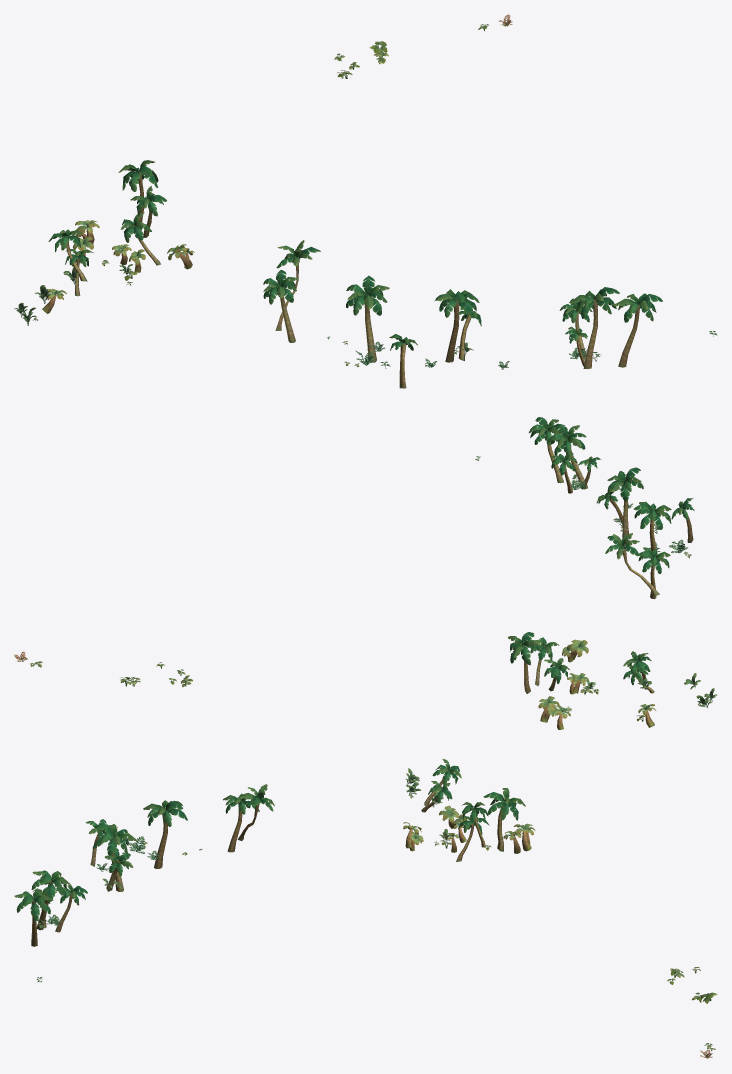
The model's file is pref_sm_4v4beachtech_WSJ_bk_topblock_R02_lv2.fbx.
3 renders of one model, top to bottom at view 1: azimuth 30°, elevation 25°; view 2: azimuth 150°, elevation 25°; view 3: azimuth 270°, elevation 25°, orthographic. The views are drawn at different scales.
Visible parts, largest first — view 1: pref_sm_4v4beachtech_WSJ_bk_topblock_R02_lv2; view 2: pref_sm_4v4beachtech_WSJ_bk_topblock_R02_lv2; view 3: pref_sm_4v4beachtech_WSJ_bk_topblock_R02_lv2.
Boxes of the visible parts, x1,y1,x2,y2 form: pref_sm_4v4beachtech_WSJ_bk_topblock_R02_lv2: [14, 14, 717, 388]; pref_sm_4v4beachtech_WSJ_bk_topblock_R02_lv2: [14, 417, 717, 729]; pref_sm_4v4beachtech_WSJ_bk_topblock_R02_lv2: [14, 759, 717, 1058].
Bounding box in the file's own units: 74.05 × 12.26 × 76.24.
